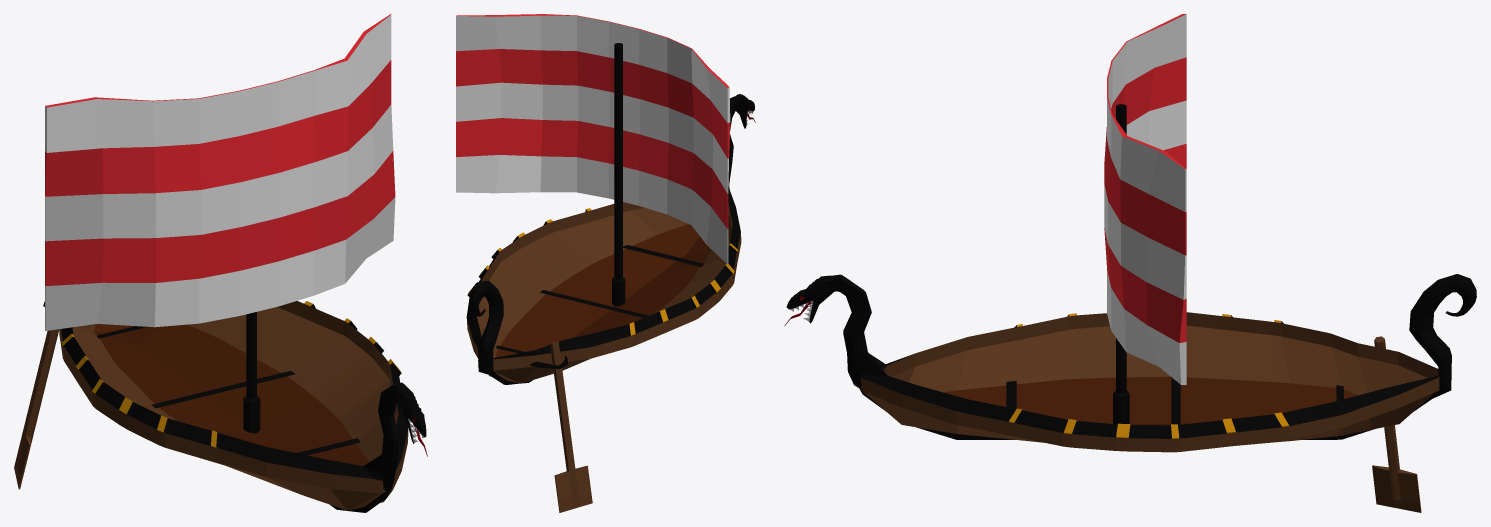
File: ship2edited.glb
3 views of the same model, side by side, from view 1: azimuth 30°, elevation 25°; view 2: azimuth 150°, elevation 25°; view 3: azimuth 270°, elevation 25° (orthographic). The views are drawn at different scales.
Visible parts, largest first — view 1: ship; view 2: ship; view 3: ship.
Boxes of the visible parts, x1,y1,x2,y2 form: ship: [14, 14, 427, 512]; ship: [456, 14, 755, 512]; ship: [784, 14, 1476, 512].
Size of the model in its own units: 17.06 by 22.65 by 30.63.
